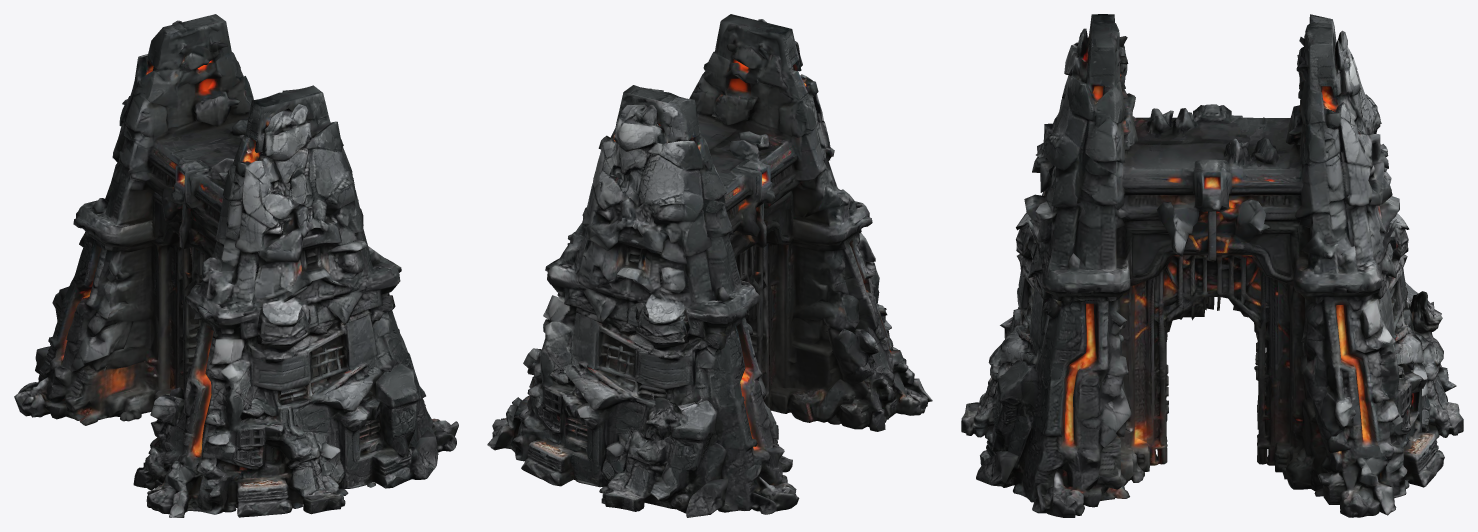
The model's file is fort_volcano_gate.glb.
The picture shows the model from 3 angles, left to right: view 1: azimuth 30°, elevation 25°; view 2: azimuth 150°, elevation 25°; view 3: azimuth 270°, elevation 25°; orthographic projection. The views are drawn at different scales.
Parts seen in each view (by area): view 1: tripo_node_8c9e3746-dcaa-429f-8814-05a991eb1c66; view 2: tripo_node_8c9e3746-dcaa-429f-8814-05a991eb1c66; view 3: tripo_node_8c9e3746-dcaa-429f-8814-05a991eb1c66.
Part boxes in pixels (x1,y1,x2,y2): tripo_node_8c9e3746-dcaa-429f-8814-05a991eb1c66: (14, 14, 458, 517); tripo_node_8c9e3746-dcaa-429f-8814-05a991eb1c66: (487, 14, 932, 517); tripo_node_8c9e3746-dcaa-429f-8814-05a991eb1c66: (961, 14, 1463, 517).
Bounding box in the file's own units: 0.7875 × 0.8948 × 1.
1 material, 1 textured.
